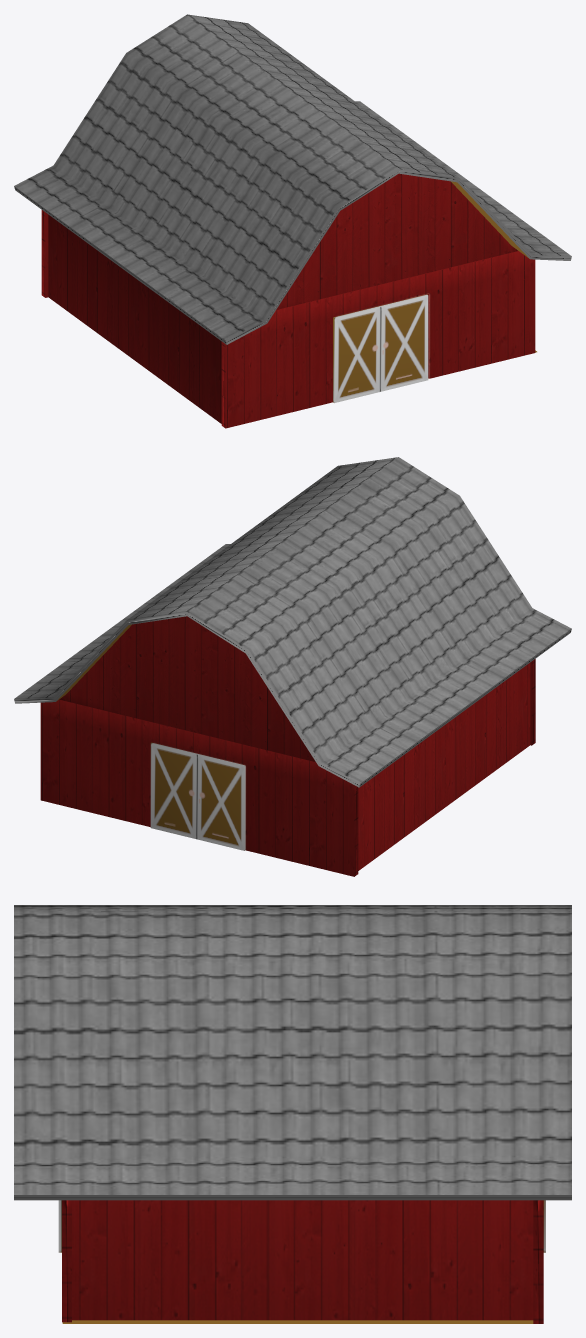
Rendered from FRM0310006.fbx.
3 views of the same model, one above another, from view 1: azimuth 30°, elevation 25°; view 2: azimuth 150°, elevation 25°; view 3: azimuth 270°, elevation 25° (orthographic). The views are drawn at different scales.
Visible parts, largest first — view 1: smFRM0310006; view 2: smFRM0310006; view 3: smFRM0310006.
Boxes of the visible parts, left/top/right/bottom form: smFRM0310006: left=14, top=14, right=571, bottom=428; smFRM0310006: left=14, top=457, right=571, bottom=876; smFRM0310006: left=14, top=905, right=571, bottom=1323.
Bounding box in the file's own units: 1034 × 669 × 1094.
Materials: 1 (1 with a texture image).
